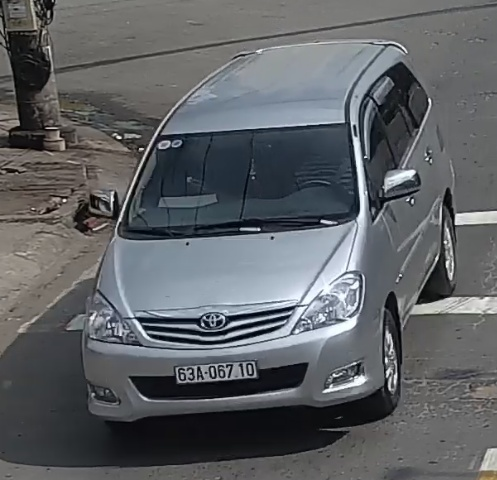vehicle plate: (170, 357, 270, 384)
